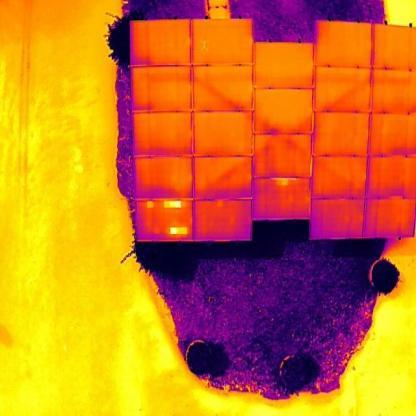anomaly: (168, 224, 189, 237), (162, 199, 184, 209), (145, 199, 155, 210)
